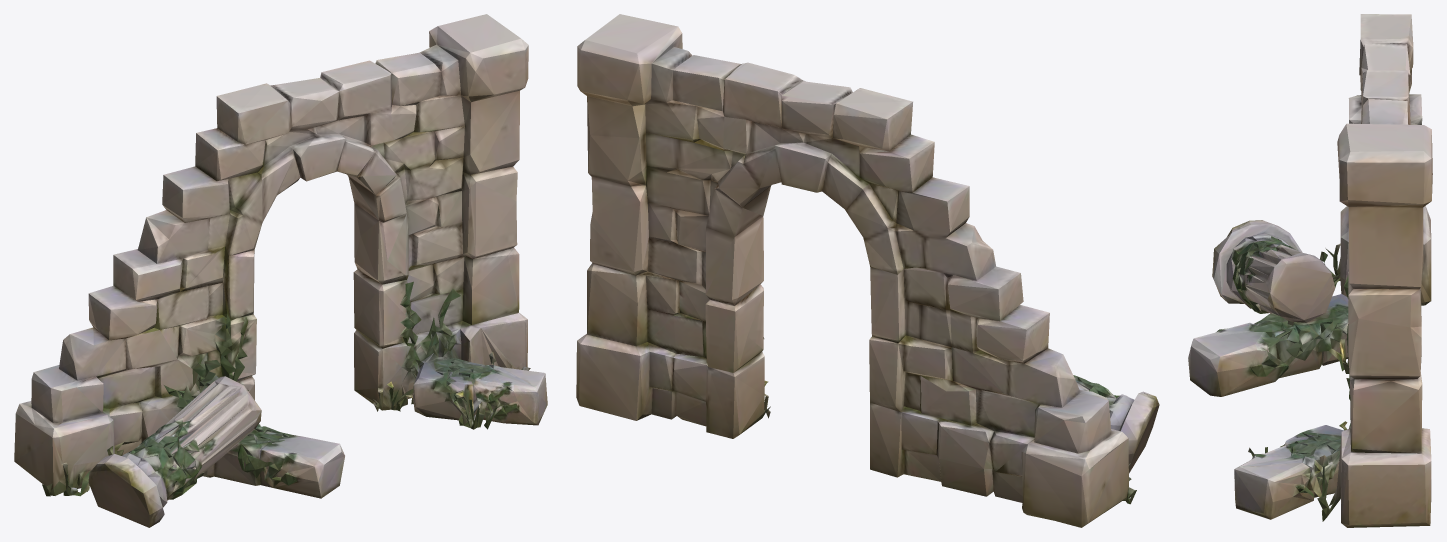
The model's file is oc_ruin_arch.glb.
3 views of the same model, side by side, from view 1: azimuth 30°, elevation 25°; view 2: azimuth 150°, elevation 25°; view 3: azimuth 270°, elevation 25° (orthographic). The views are drawn at different scales.
Parts seen in each view (by area): view 1: W_ruin_arch_flowers; view 2: W_ruin_arch_flowers; view 3: W_ruin_arch_flowers.
Part boxes in pixels (x1=…): W_ruin_arch_flowers: x1=14, y1=14, x2=547, y2=527; W_ruin_arch_flowers: x1=576, y1=14, x2=1159, y2=527; W_ruin_arch_flowers: x1=1188, y1=14, x2=1432, y2=527.
Size of the model in its own units: 4.8 by 3.23 by 1.9.
1 material, 1 textured.
